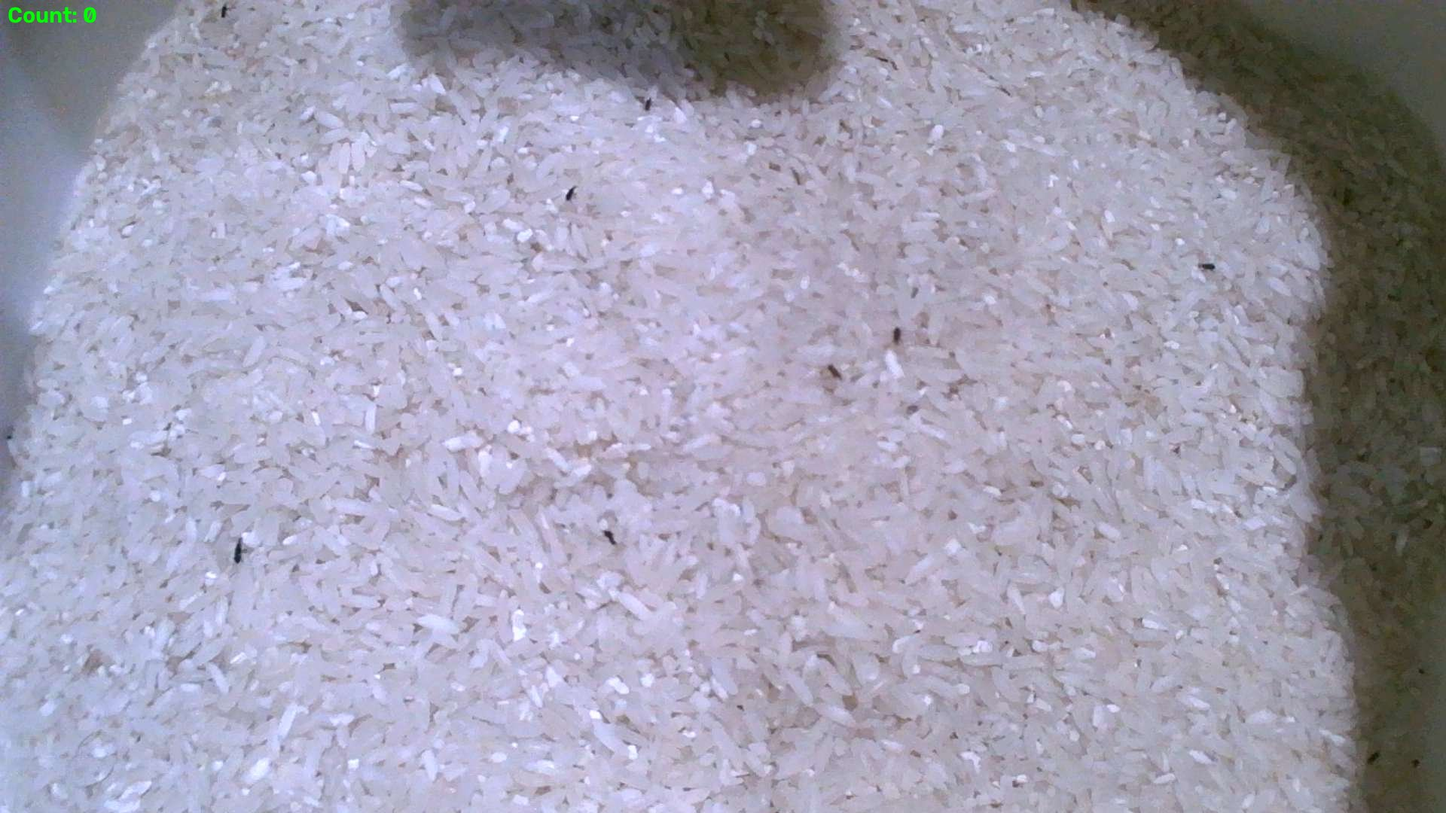Sitophilus-Oryzae: (233, 539, 243, 562), (565, 186, 576, 201), (220, 3, 230, 19), (892, 327, 901, 344), (1198, 263, 1216, 271), (643, 98, 653, 111)
